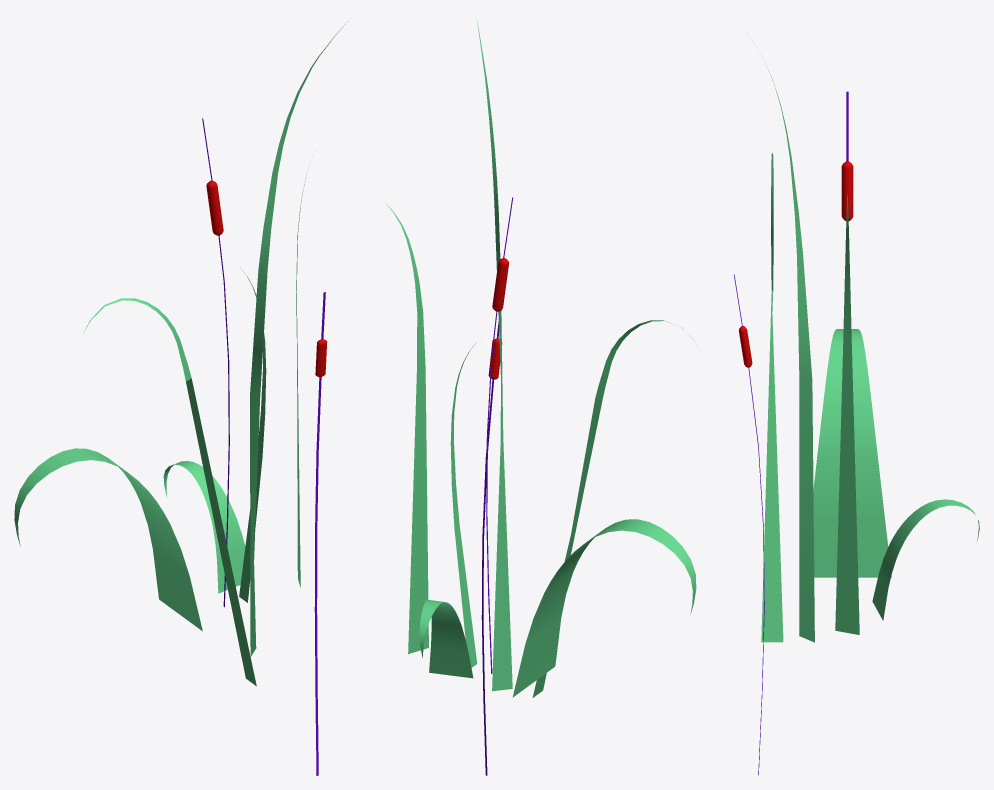
File: Reeds.fbx
3 views of the same model, side by side, from view 1: azimuth 30°, elevation 25°; view 2: azimuth 150°, elevation 25°; view 3: azimuth 270°, elevation 25° (orthographic). The views are drawn at different scales.
Parts seen in each view (by area): view 1: sweep2, sweep6, sweep5, sweep7, sweep4, sweep8, sweep3, sweep1, Reed_Bud; view 2: sweep2, sweep3, sweep6, sweep7, sweep5, sweep4, sweep8, sweep1, Reed_Bud; view 3: sweep2, sweep3, sweep6, sweep5, sweep7, Reed_Bud, sweep8.
Part boxes in pixels (x1,y1,x2,y2): sweep2: (14,448,202,631); sweep6: (250,18,350,656); sweep5: (83,298,256,686); sweep7: (163,461,250,593); sweep4: (239,267,266,602); sweep8: (314,292,325,775); sweep3: (296,175,306,587); sweep1: (202,118,229,607); Reed_Bud: (206,180,223,235); sweep2: (512,519,696,697); sweep3: (385,203,428,654); sweep6: (476,18,512,691); sweep7: (419,599,473,678); sweep5: (532,320,695,697); sweep4: (450,342,477,667); sweep8: (481,310,501,775); sweep1: (486,197,513,673); Reed_Bud: (492,258,508,311); sweep2: (813,329,891,577); sweep3: (835,194,859,634); sweep6: (761,55,814,642); sweep5: (761,153,783,642); sweep7: (872,499,979,620); Reed_Bud: (841,161,853,220); sweep8: (734,274,764,775).
Size of the model in its own units: 8.4 by 19.24 by 5.58.
